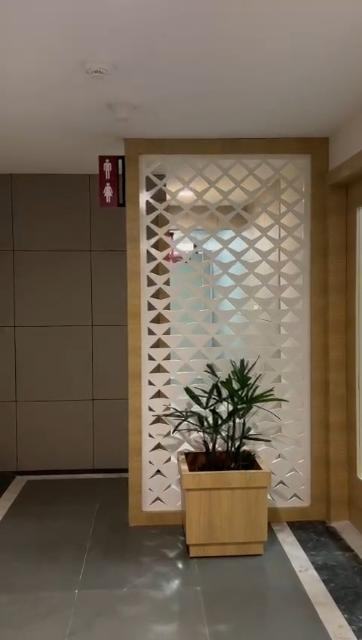floor: (0, 474, 362, 637)
object: (159, 354, 285, 558)
